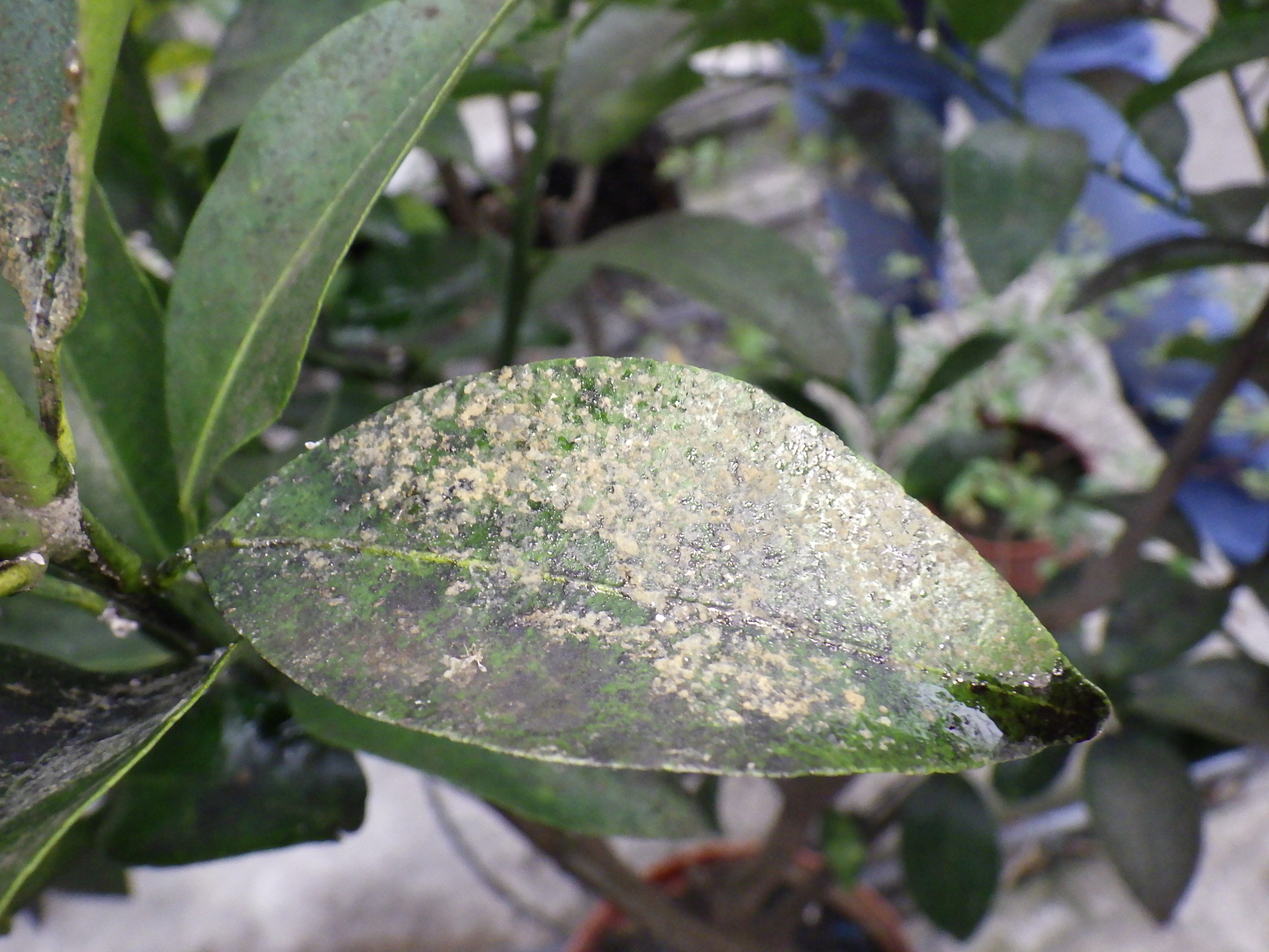Sooty_Mold: (193, 356, 1103, 775)
